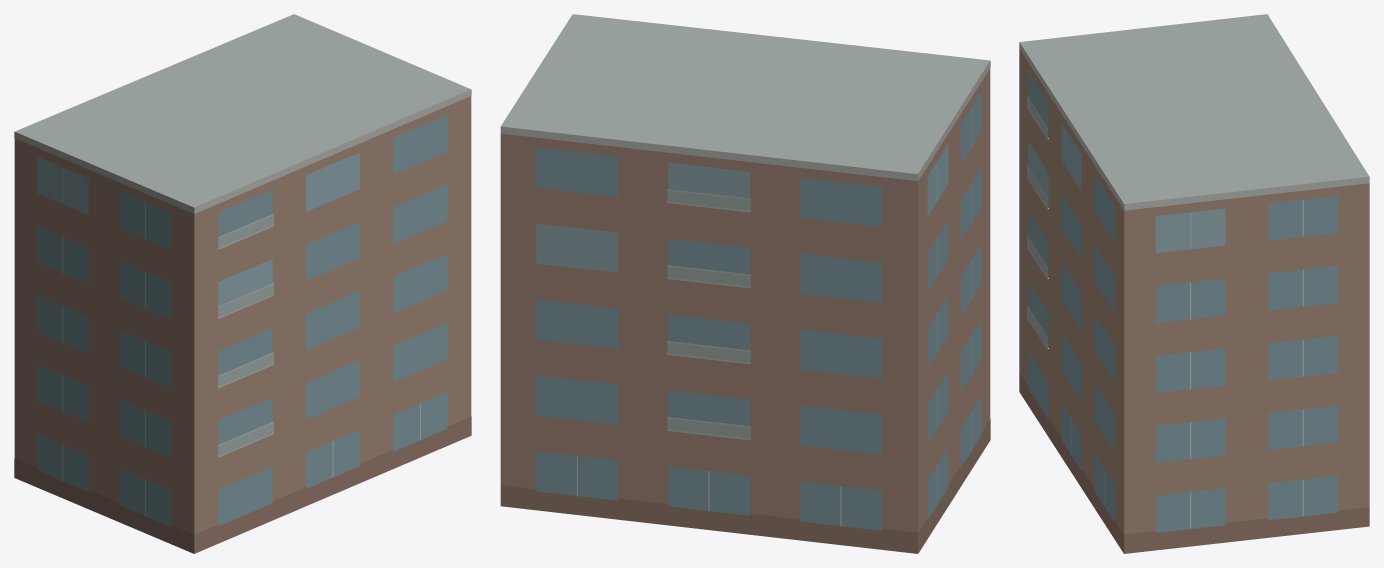
Rendered from survey-upis-32696044.glb.
The picture shows the model from 3 angles, left to right: view 1: azimuth 30°, elevation 25°; view 2: azimuth 150°, elevation 25°; view 3: azimuth 270°, elevation 25°; orthographic projection. The views are drawn at different scales.
Visible parts, largest first — view 1: survey-upis-32696044.tmp; view 2: survey-upis-32696044.tmp; view 3: survey-upis-32696044.tmp.
Part boxes in pixels (x1=…): survey-upis-32696044.tmp: x1=14, y1=14, x2=471, y2=553; survey-upis-32696044.tmp: x1=500, y1=14, x2=990, y2=553; survey-upis-32696044.tmp: x1=1019, y1=14, x2=1369, y2=553.
Size of the model in its own units: 15.29 by 13.1 by 11.9.
